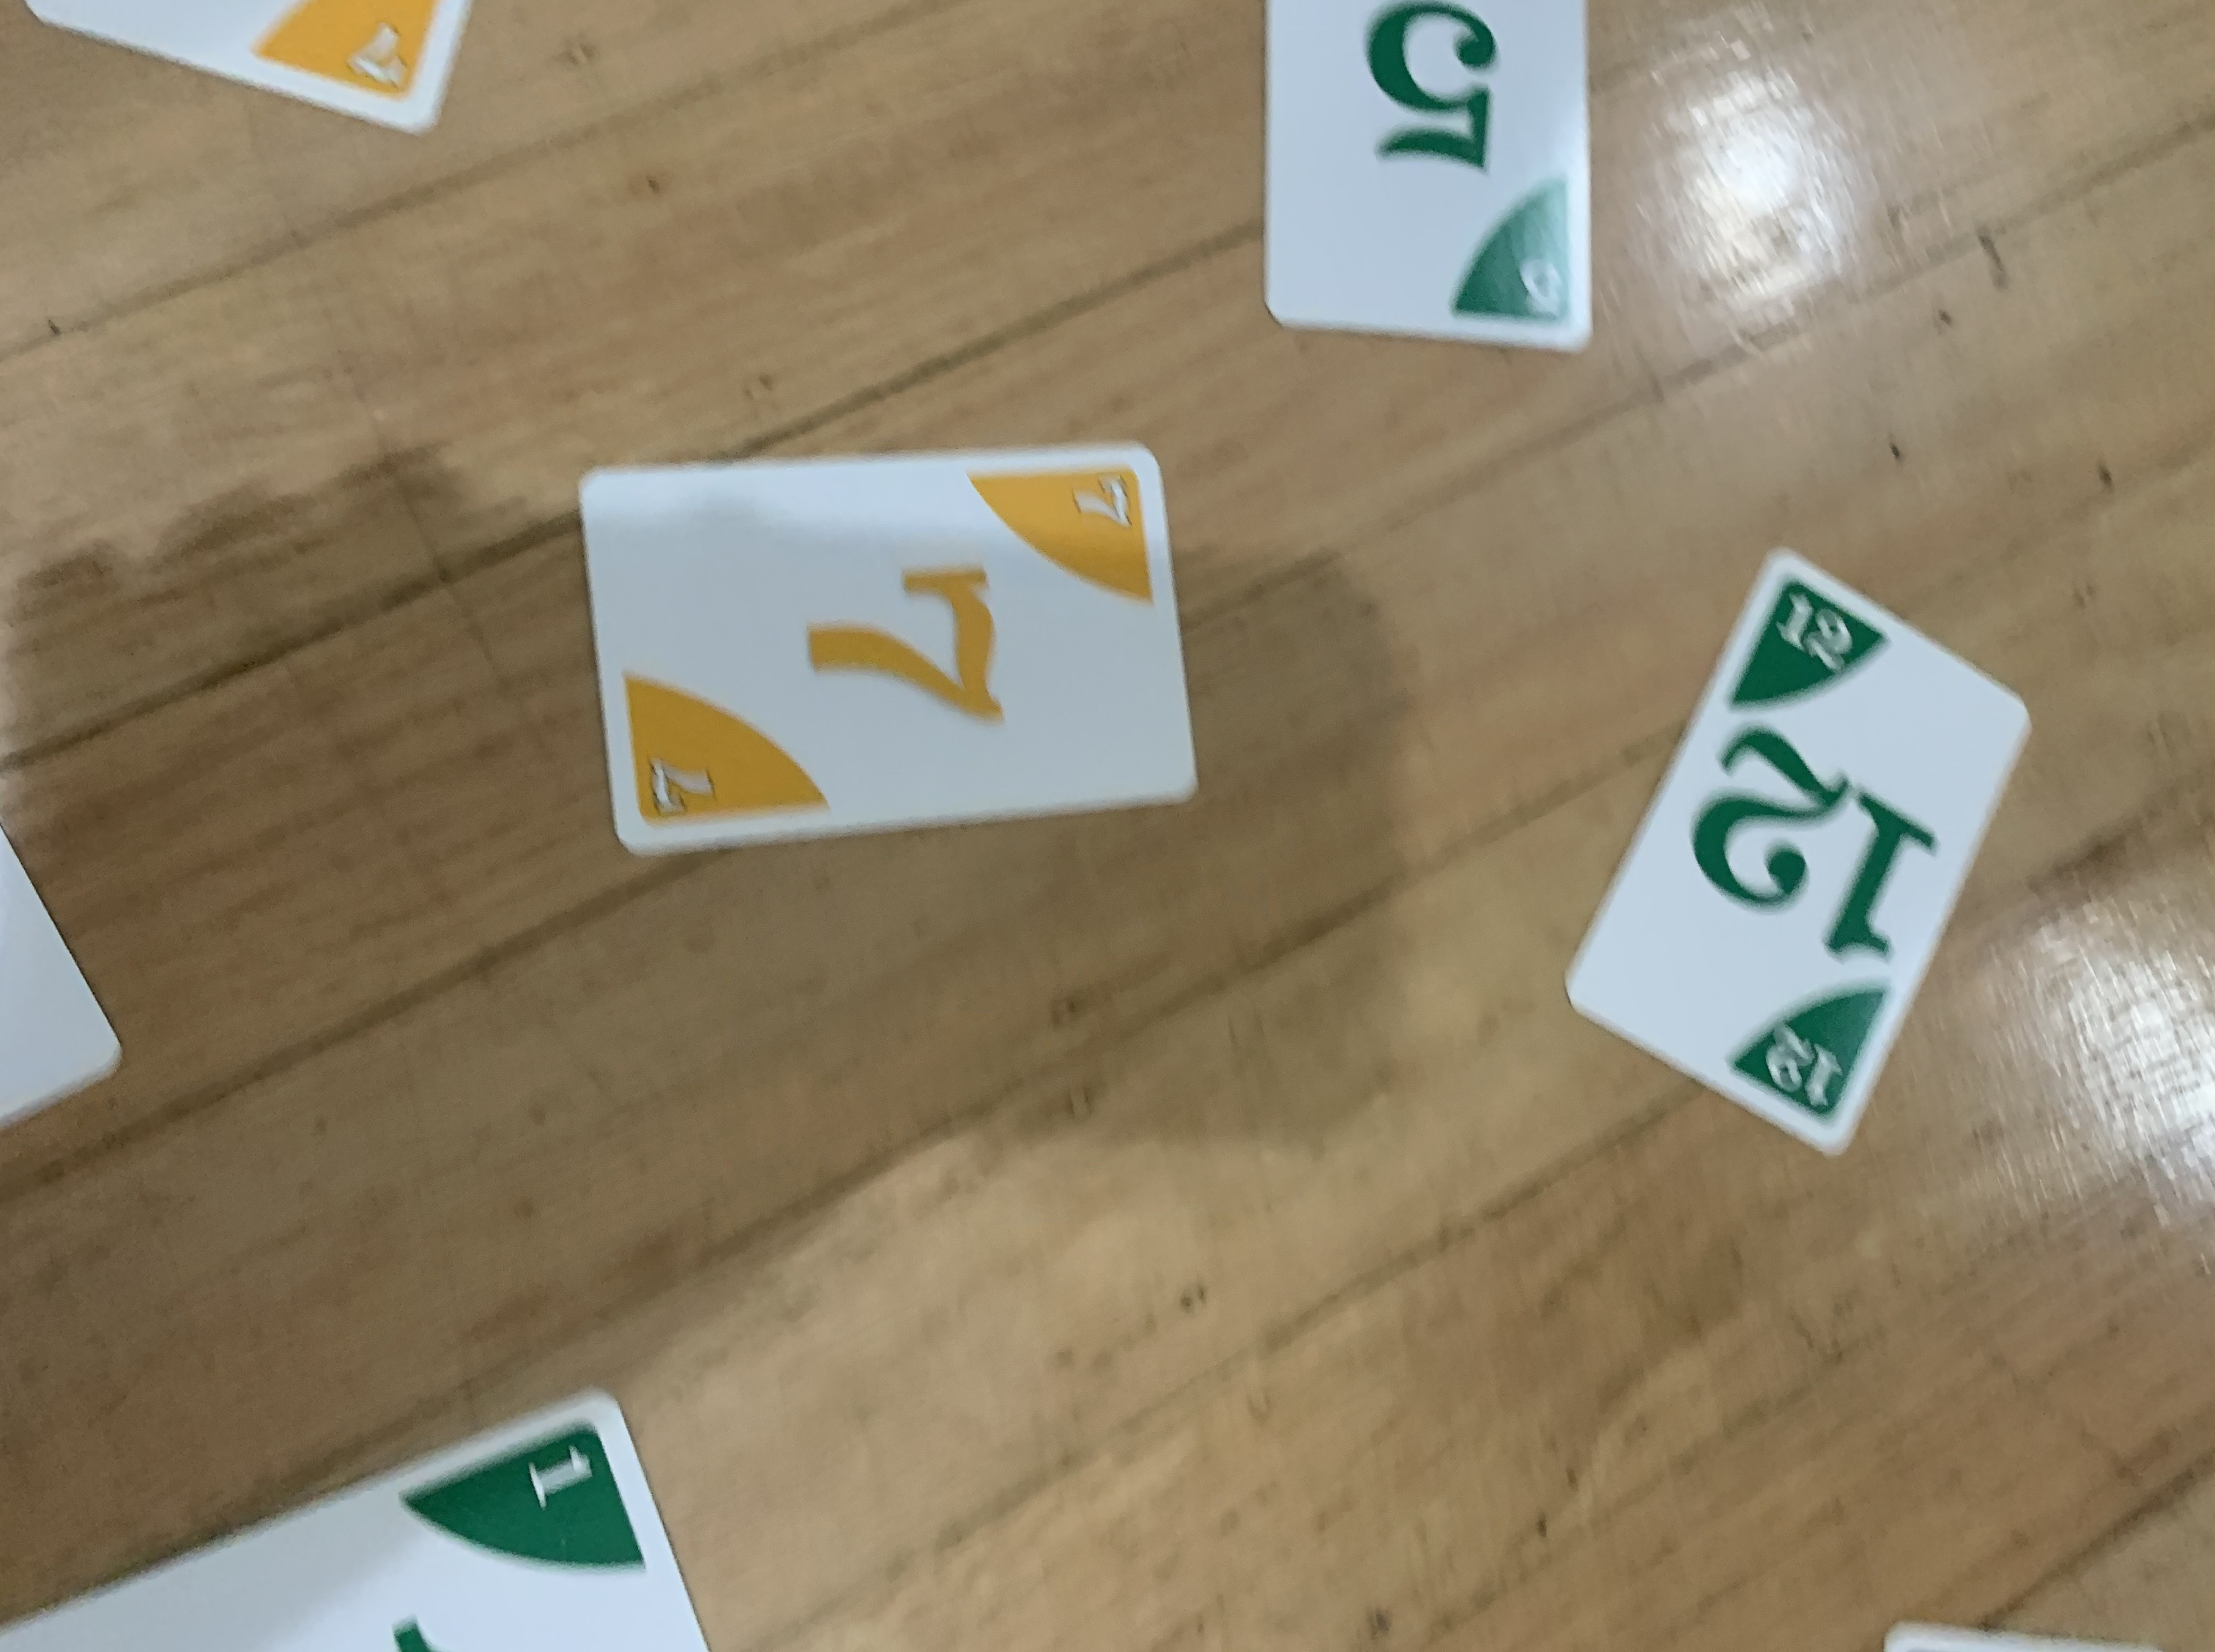seven: (569, 432, 1210, 861)
twelve: (1559, 536, 2041, 1164)
